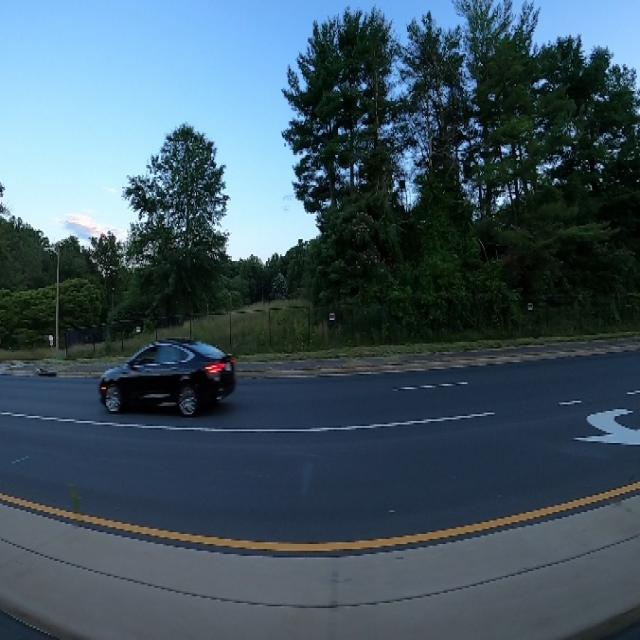car: (97, 328, 237, 421)
